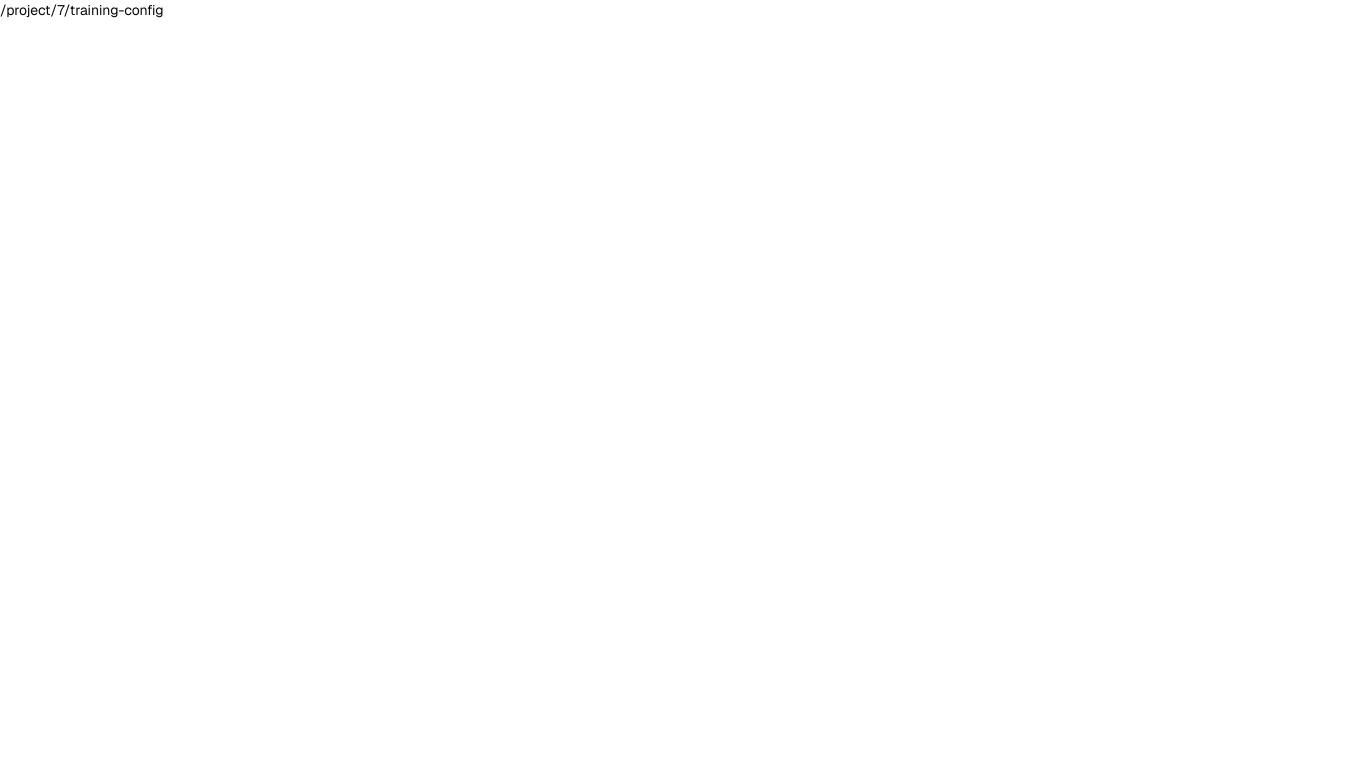
CommandPalette › Enter selects the highlighted item and closes
Type keys "{Meta>}k{/Meta}"
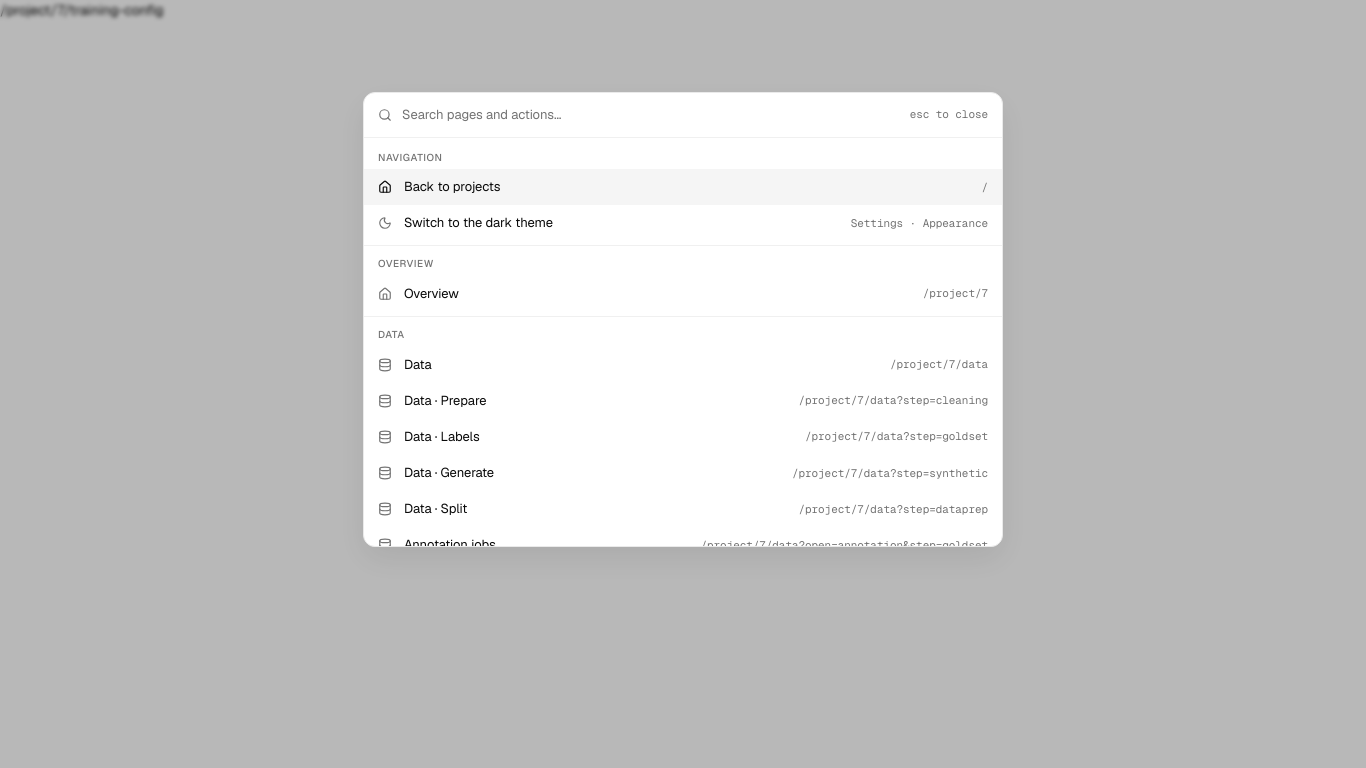
Now the dialog is shown, box [363,92,1003,548]
Type narrow query so the first highlighted result is predictable.
Type "observ" into the field named "Command query".
click(651, 115); type("observ")  # box [402,105,900,125]
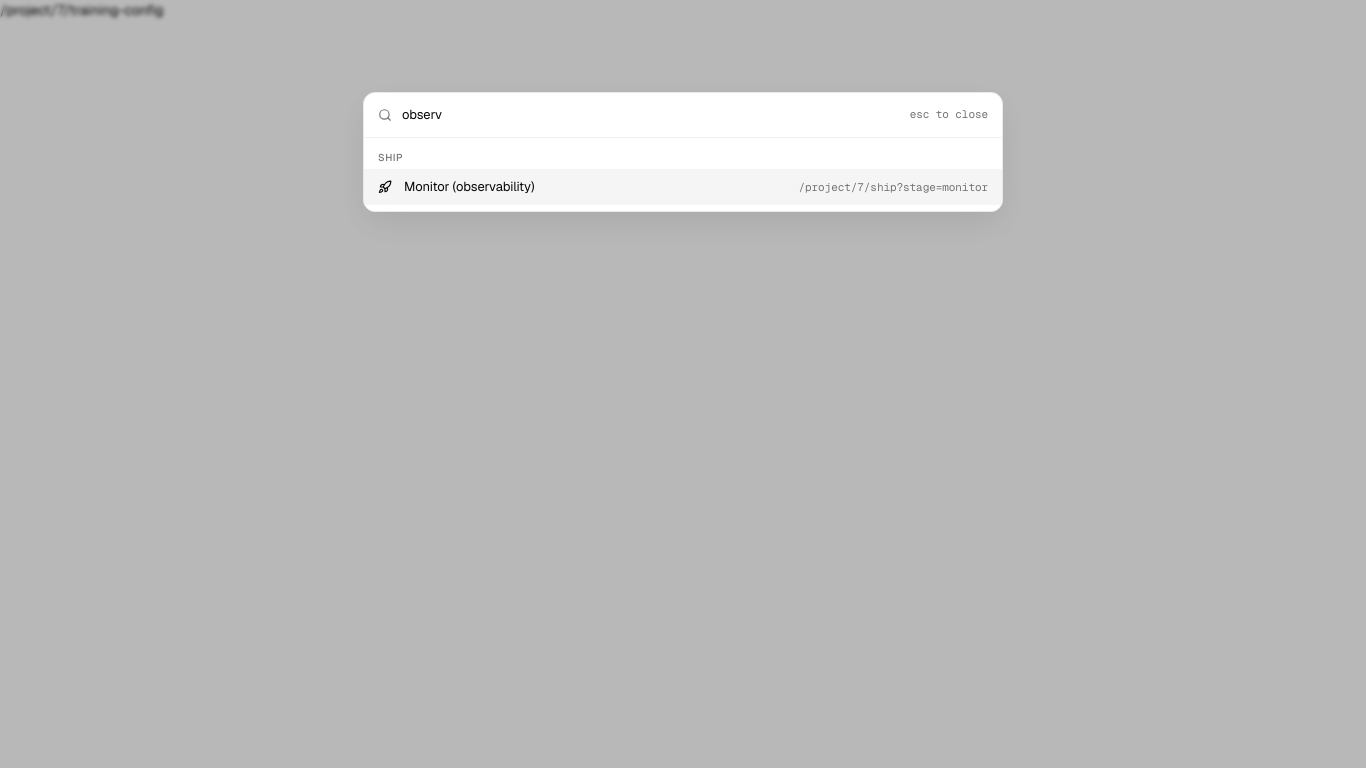
Press Enter
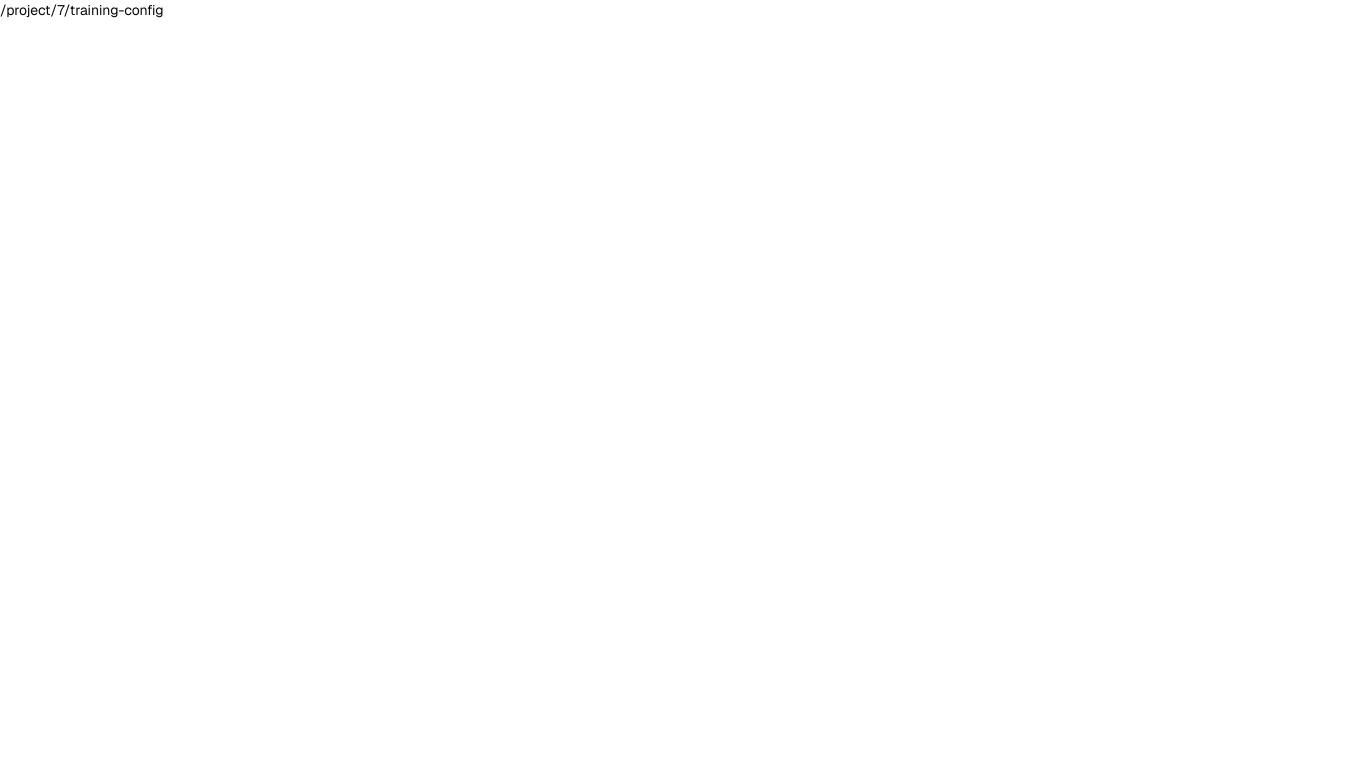
Now the dialog is gone
